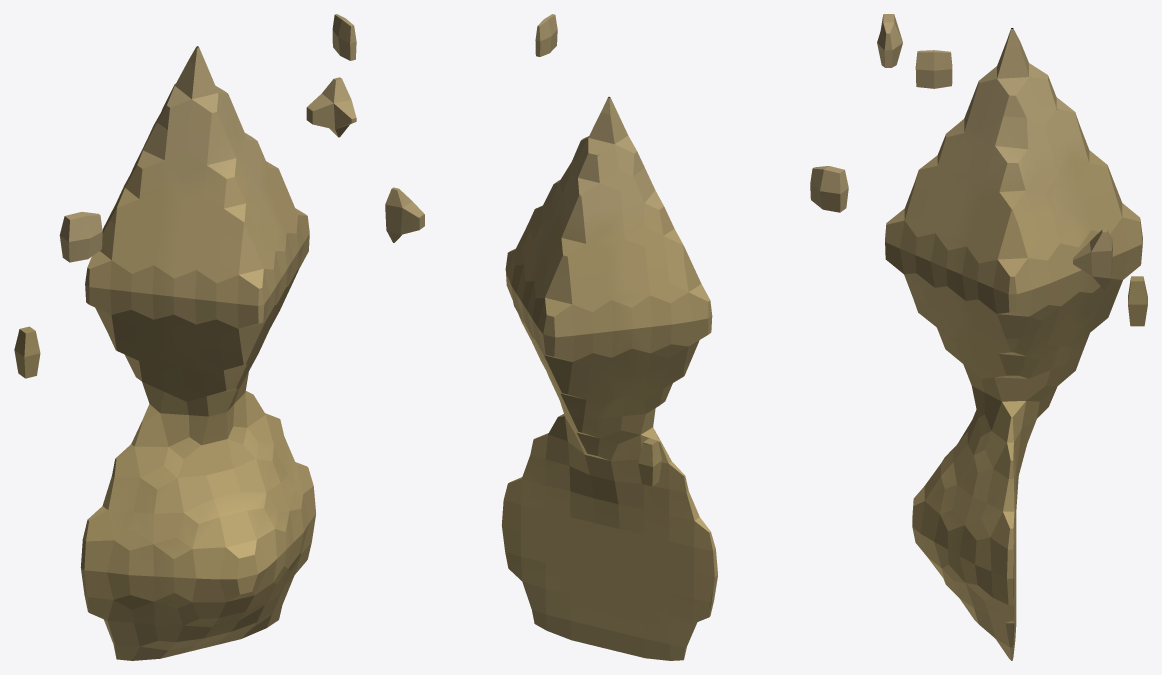
The model's file is waterElemental.glb.
The picture shows the model from 3 angles, left to right: view 1: azimuth 30°, elevation 25°; view 2: azimuth 150°, elevation 25°; view 3: azimuth 270°, elevation 25°; orthographic projection. The views are drawn at different scales.
Parts seen in each view (by area): view 1: geometry_0; view 2: geometry_0; view 3: geometry_0.
Boxes of the visible parts, x1,y1,x2,y2 form: geometry_0: (14,14,356,660); geometry_0: (385,14,848,660); geometry_0: (877,14,1147,660).
Bounding box in the file's own units: 0.6023 × 0.9325 × 0.3635.
Materials: 1 (1 with a texture image).
